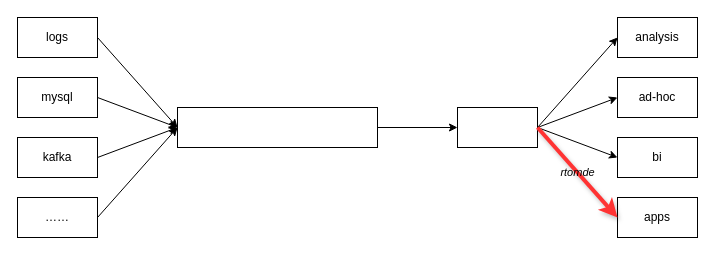
Some shapes in this 715 by 255 pixel diagram are drawn without their labels. Here are the shapes that lost their labels. From the top down, the centre of each, then its label:
(x=277, y=127): collect -> transform -> sink
(x=497, y=127): data warehouse
